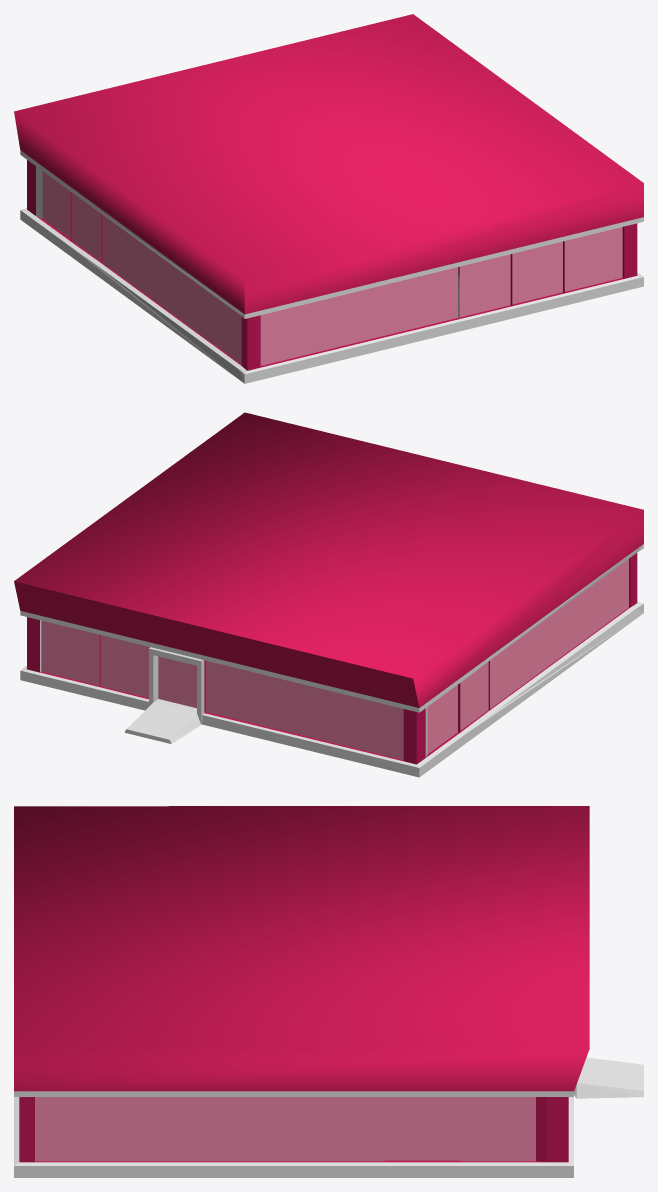
File: Shop4x4x1Pink 1.fbx
3 renders of one model, top to bottom at view 1: azimuth 30°, elevation 25°; view 2: azimuth 150°, elevation 25°; view 3: azimuth 270°, elevation 25°, orthographic. The views are drawn at different scales.
Parts seen in each view (by area): view 1: Shop.001; view 2: Shop.001; view 3: Shop.001.
Part boxes in pixels (x1,y1,x2,y2): Shop.001: (14, 14, 643, 383); Shop.001: (14, 412, 643, 777); Shop.001: (14, 806, 643, 1177).
Bounding box in the file's own units: 4.02 × 0.9949 × 4.4.
Materials: 1 (1 with a texture image).
